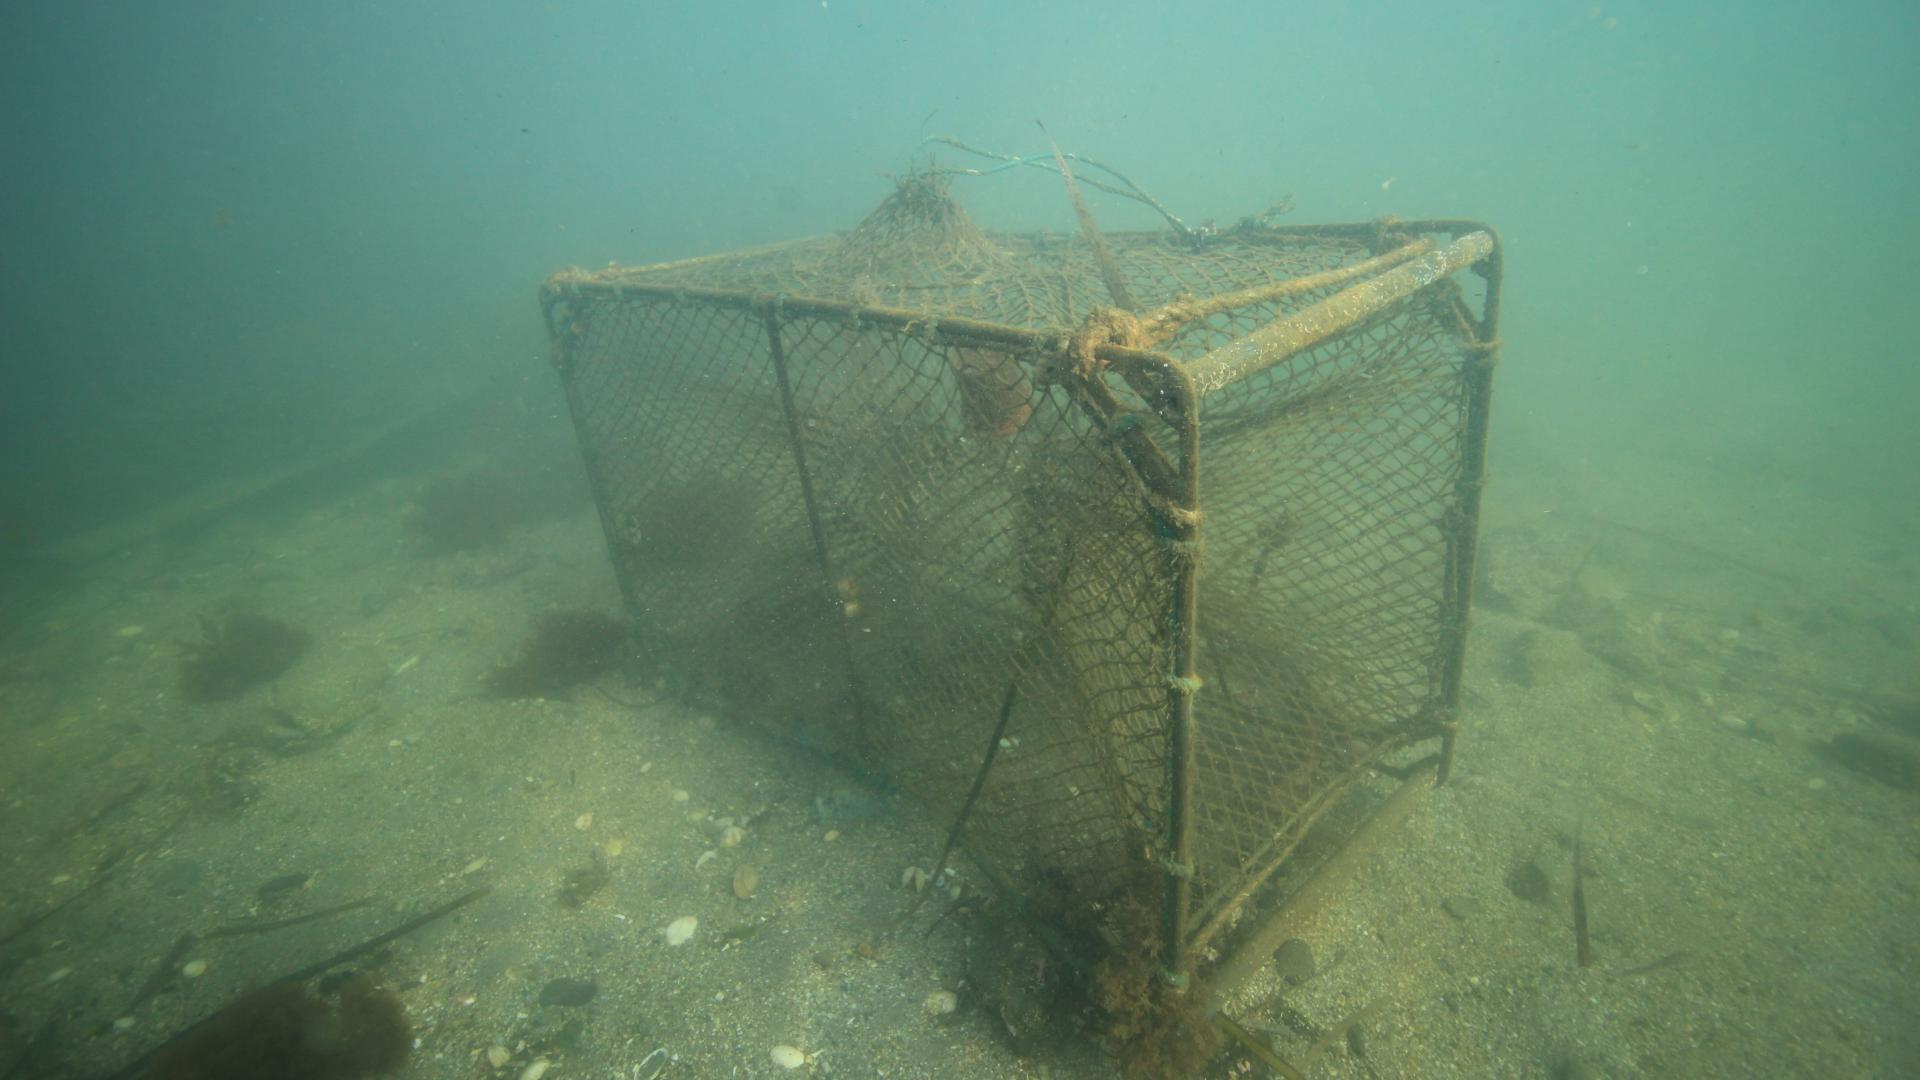rectangular fish trap: (534, 218, 1506, 994)
